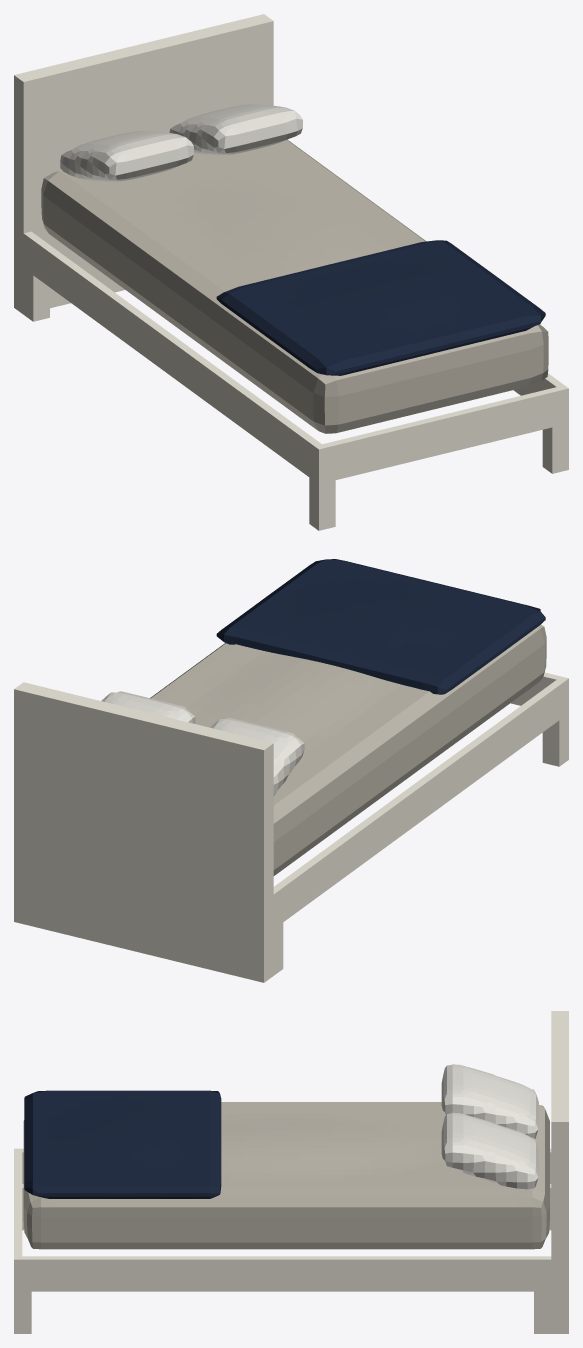
File: LIT-KBD-single.glb
3 views of the same model, one above another, from view 1: azimuth 30°, elevation 25°; view 2: azimuth 150°, elevation 25°; view 3: azimuth 270°, elevation 25° (orthographic). The views are drawn at different scales.
Visible parts, largest first — view 1: mattress:pbr, head:pbr, throw:pbr, rail-l:pbr, foot:pbr, pillow-l:pbr, pillow-r:pbr, leg-fl:pbr, leg-fr:pbr, leg-hl:pbr, rail-r:pbr; view 2: head:pbr, mattress:pbr, throw:pbr, rail-l:pbr, pillow-l:pbr, pillow-r:pbr, leg-fl:pbr; view 3: mattress:pbr, throw:pbr, rail-r:pbr, head:pbr, pillow-r:pbr, pillow-l:pbr, foot:pbr, leg-fr:pbr, leg-hr:pbr.
Part boxes in pixels (box(x1,y1,x2,y2)): mattress:pbr: box(41, 139, 548, 433); head:pbr: box(14, 14, 273, 314); throw:pbr: box(216, 240, 545, 375); rail-l:pbr: box(23, 231, 326, 484); foot:pbr: box(322, 387, 561, 482); pillow-l:pbr: box(60, 131, 193, 181); pillow-r:pbr: box(169, 104, 302, 155); leg-fl:pbr: box(309, 477, 335, 530); leg-fr:pbr: box(542, 423, 568, 473); leg-hl:pbr: box(23, 268, 49, 321); rail-r:pbr: box(513, 373, 568, 424); head:pbr: box(14, 682, 273, 982); mattress:pbr: box(150, 624, 546, 875); throw:pbr: box(216, 559, 545, 694); rail-l:pbr: box(273, 676, 568, 928); pillow-l:pbr: box(210, 717, 304, 795); pillow-r:pbr: box(101, 691, 195, 723); leg-fl:pbr: box(542, 713, 568, 766); mattress:pbr: box(23, 1102, 549, 1249); throw:pbr: box(24, 1090, 221, 1198); rail-r:pbr: box(14, 1256, 551, 1291); head:pbr: box(551, 1011, 568, 1333); pillow-r:pbr: box(441, 1112, 538, 1189); pillow-l:pbr: box(441, 1064, 538, 1138); foot:pbr: box(14, 1152, 22, 1256); leg-fr:pbr: box(14, 1291, 31, 1333); leg-hr:pbr: box(534, 1291, 551, 1333).
Bounding box in the file's own units: 0.9 × 0.8 × 1.9.
